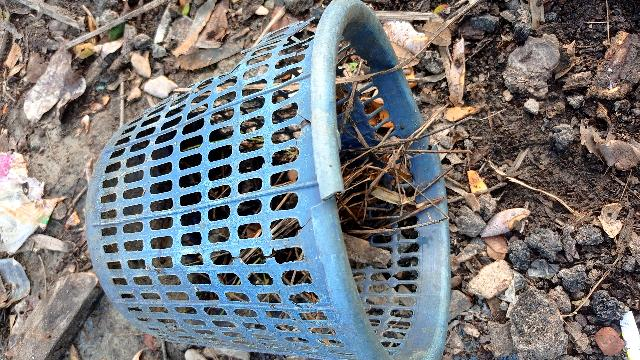hardplastic: (71, 1, 451, 360)
